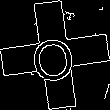O_N: (30, 27, 80, 83)
